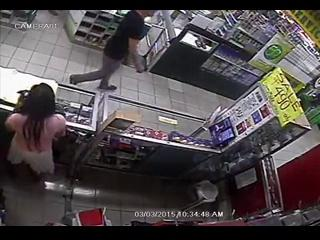Normal: (68, 10, 157, 92), (4, 83, 67, 185)
